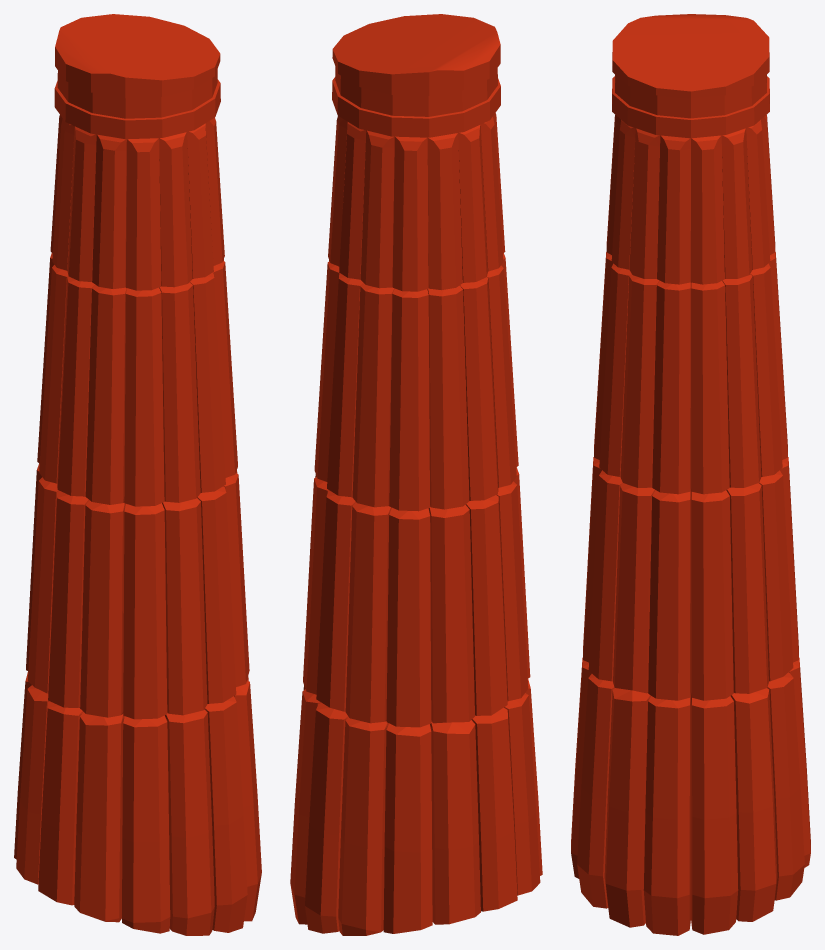
Rendered from CGM_ENV_GRD_broken_pillar3.fbx.
The picture shows the model from 3 angles, left to right: view 1: azimuth 30°, elevation 25°; view 2: azimuth 150°, elevation 25°; view 3: azimuth 270°, elevation 25°; orthographic projection. The views are drawn at different scales.
Visible parts, largest first — view 1: CGM_ENV_GRD_broken_pillar3; view 2: CGM_ENV_GRD_broken_pillar3; view 3: CGM_ENV_GRD_broken_pillar3.
Part boxes in pixels (box(x1,y1,x2,y2)): CGM_ENV_GRD_broken_pillar3: box(14, 14, 261, 935); CGM_ENV_GRD_broken_pillar3: box(290, 14, 542, 935); CGM_ENV_GRD_broken_pillar3: box(571, 14, 810, 935).
Size of the model in its own units: 152 by 593 by 152.
